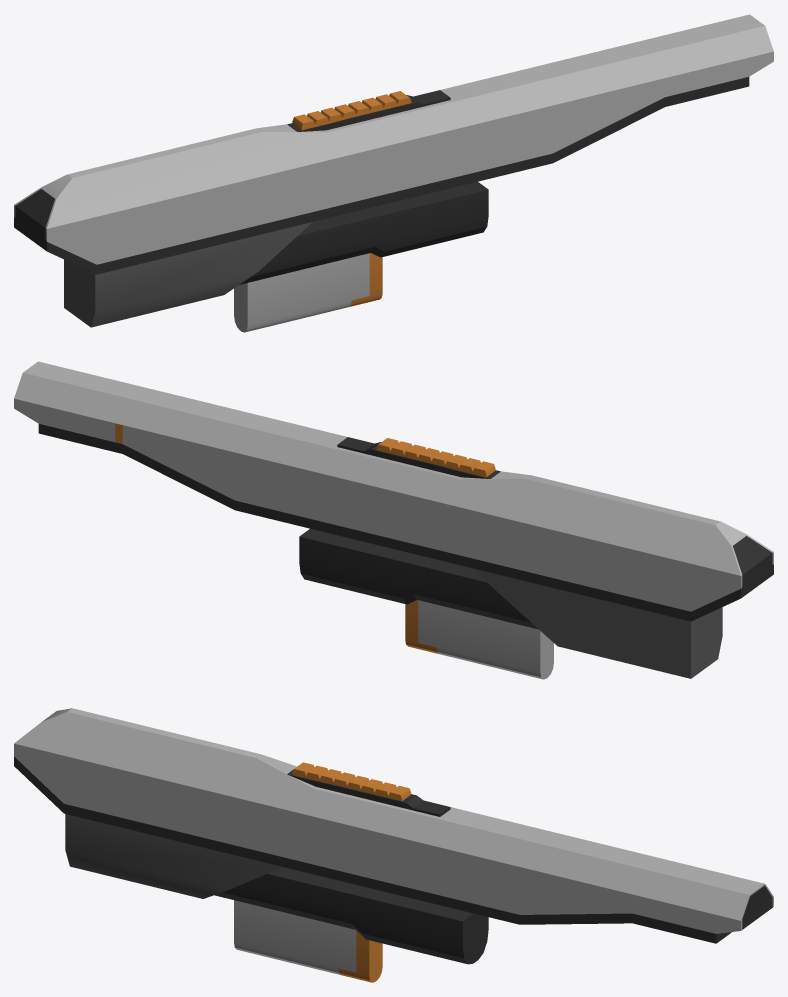
File: Body_Front_Sniper_3.gltf
The picture shows the model from 3 angles, top to bottom: view 1: azimuth 30°, elevation 25°; view 2: azimuth 150°, elevation 25°; view 3: azimuth 330°, elevation 25°; orthographic projection.
Visible parts, largest first — view 1: Body_Front_Sniper_3; view 2: Body_Front_Sniper_3; view 3: Body_Front_Sniper_3.
Boxes of the visible parts, box(x1,y1,x2,y2) form: Body_Front_Sniper_3: box(14, 14, 773, 332); Body_Front_Sniper_3: box(14, 361, 773, 679); Body_Front_Sniper_3: box(14, 708, 773, 982).
Size of the model in its own units: 1.2 by 0.3116 by 0.0945.
